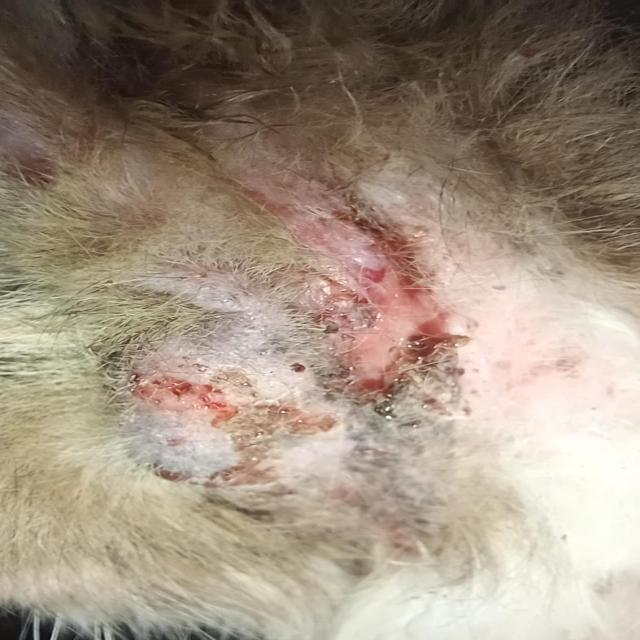hac lao: (79, 174, 495, 558)
